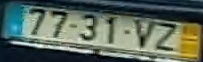1: (105, 16, 115, 45)
3: (79, 13, 99, 42)
7: (49, 9, 70, 39), (27, 6, 46, 36)
V: (131, 17, 158, 49)
Z: (154, 21, 178, 52)
